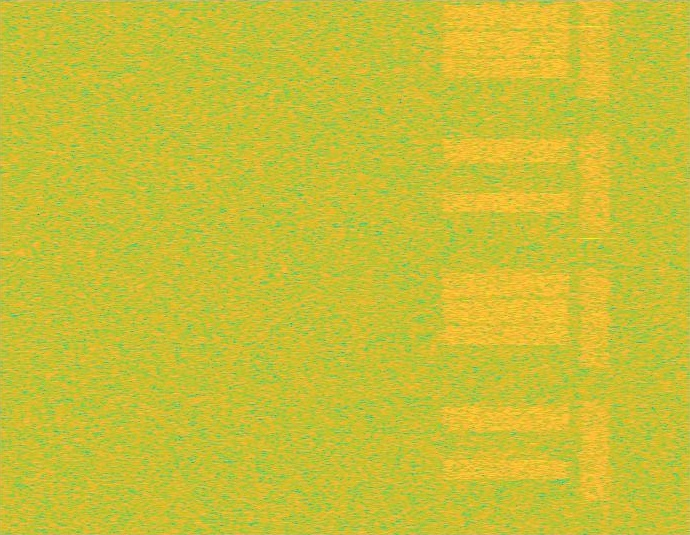5G: (578, 0, 613, 534)
LTE: (437, 0, 575, 534)
Radar: (584, 0, 598, 534)
